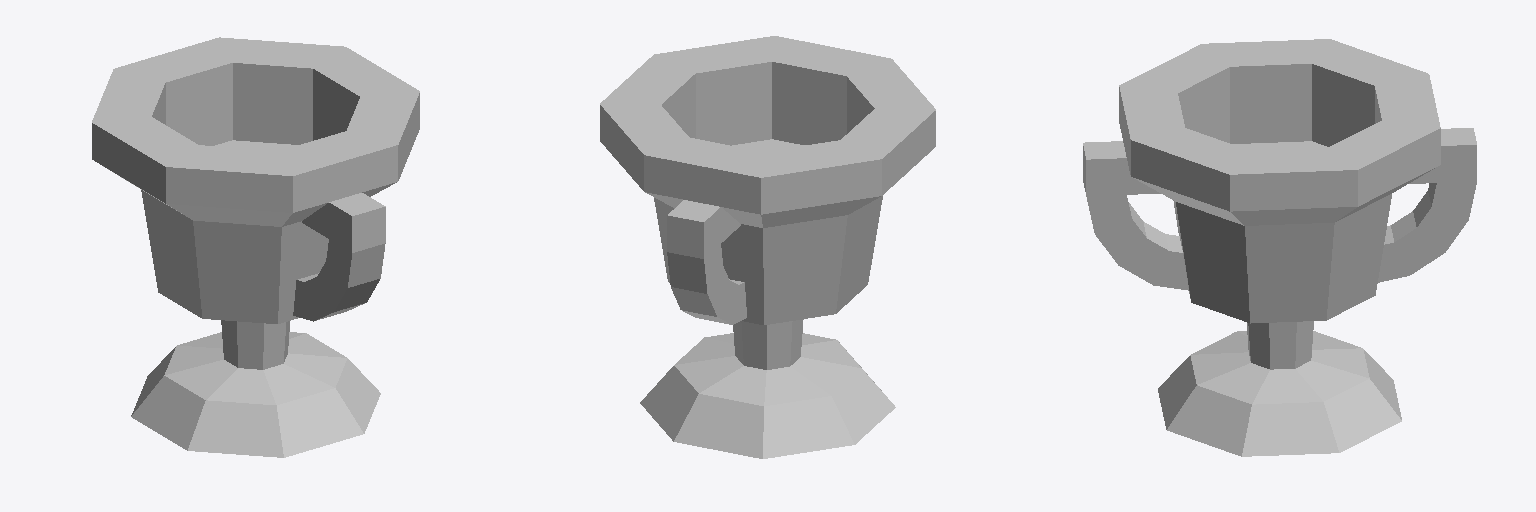
Rendered from @deco.obj.
The picture shows the model from 3 angles: view 1: azimuth 30°, elevation 25°; view 2: azimuth 150°, elevation 25°; view 3: azimuth 270°, elevation 25°; orthographic projection.
Visible parts, largest first — view 1: trophy; view 2: trophy; view 3: trophy.
Boxes of the visible parts, x1=… form: trophy: x1=92, y1=37, x2=419, y2=457; trophy: x1=600, y1=36, x2=935, y2=458; trophy: x1=1083, y1=39, x2=1476, y2=456.
Size of the model in its own units: 2.33 by 2.39 by 2.86.